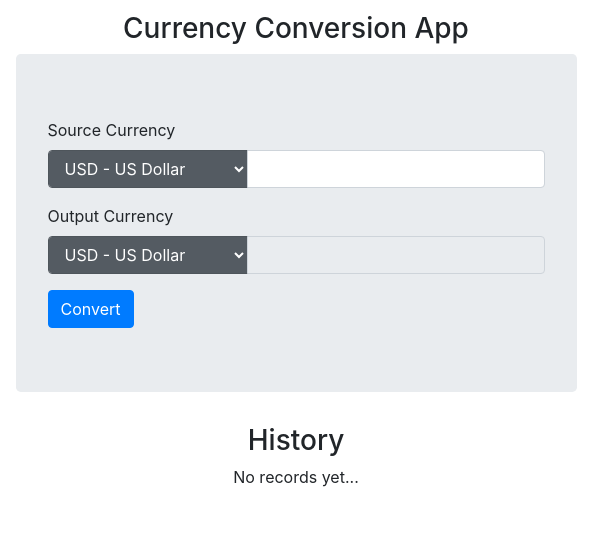
Test: Cypress › Error when source amount is empty
Click the button with test id "convertBtn" at (91, 309), box [48,290,134,328]
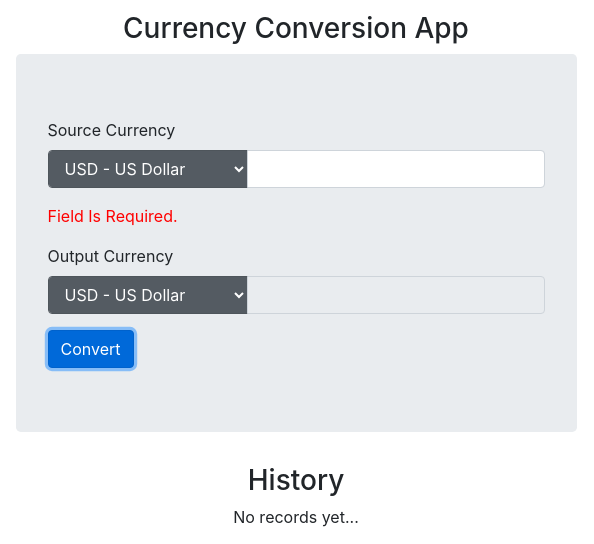
Expected: the text with test id "sourceAmountErrorMsg" reads "Field Is Required.", [48,206,178,226]
